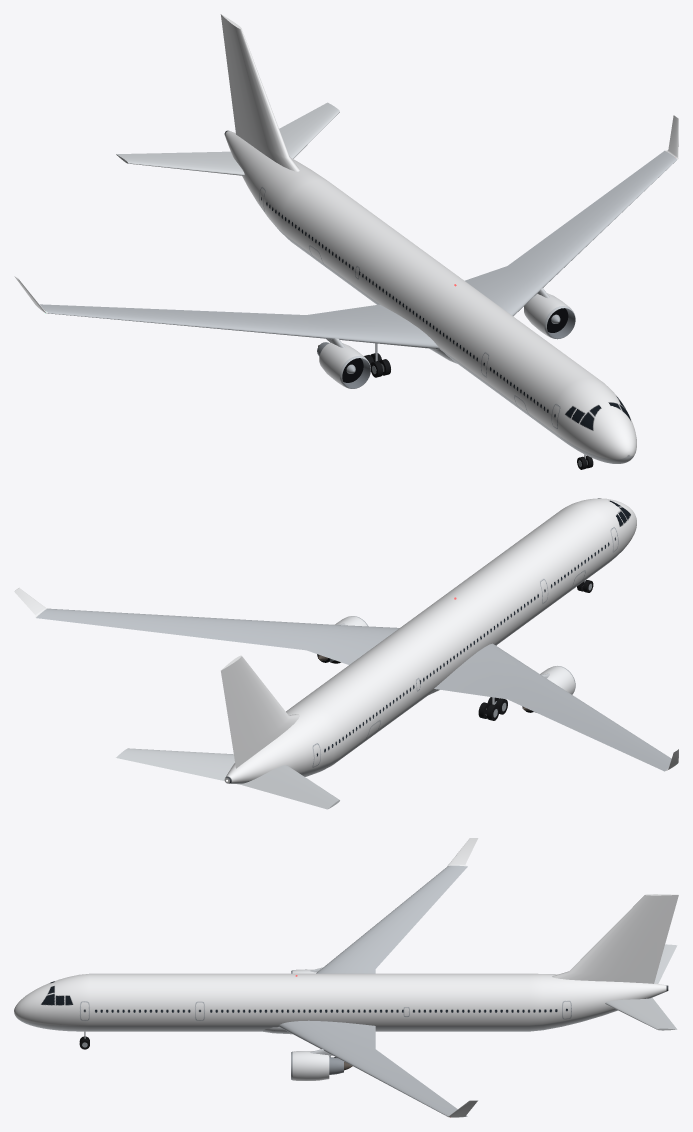
3 renders of one model, top to bottom at view 1: azimuth 30°, elevation 25°; view 2: azimuth 150°, elevation 25°; view 3: azimuth 270°, elevation 25°, orthographic. The views are drawn at different scales.
Visible parts, largest first — view 1: body; view 2: body, gear; view 3: body.
Boxes of the visible parts, x1=… form: body: x1=14, y1=14, x2=678, y2=463; body: x1=14, y1=498, x2=678, y2=809; gear: x1=478, y1=580, x2=593, y2=720; body: x1=14, y1=838, x2=678, y2=1117.
Bounding box in the file's own units: 60.47 × 16.4 × 64.7.
19 materials, 1 textured.
